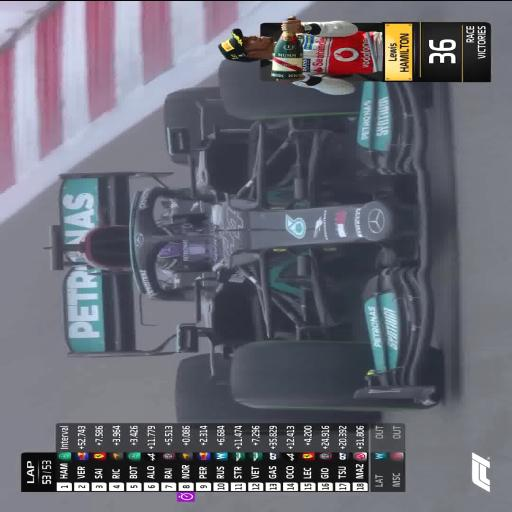f1_car: (49, 61, 440, 421), (426, 84, 427, 86)
